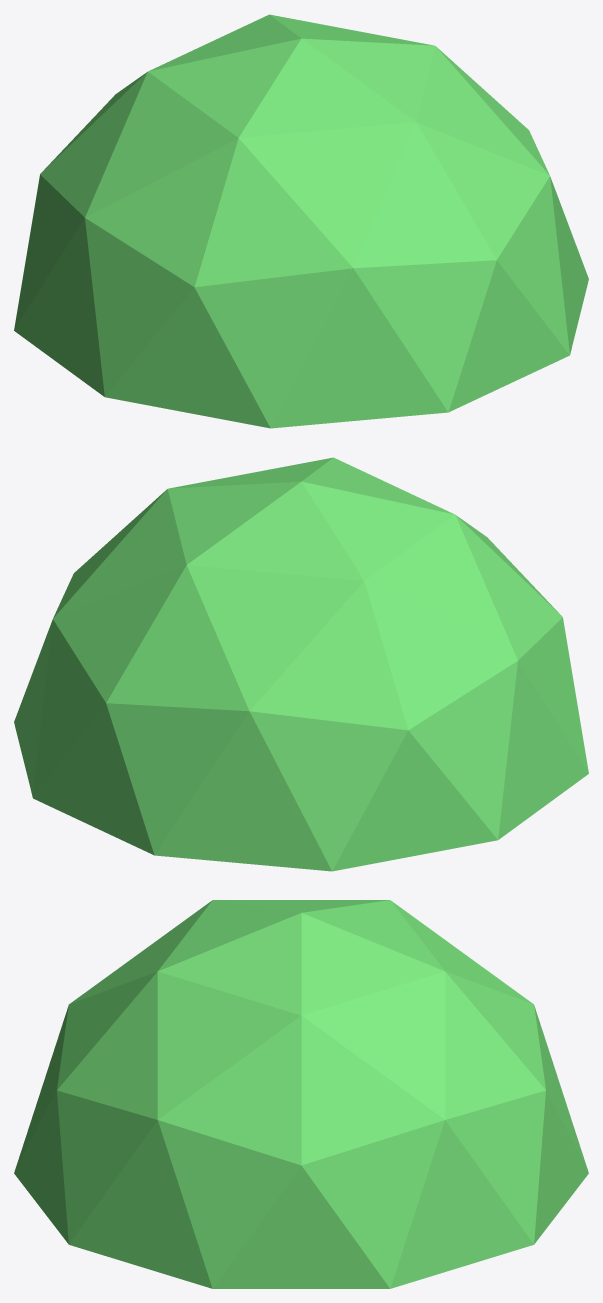
File: buisson.fbx
The picture shows the model from 3 angles, top to bottom: view 1: azimuth 30°, elevation 25°; view 2: azimuth 150°, elevation 25°; view 3: azimuth 270°, elevation 25°; orthographic projection. The views are drawn at different scales.
Parts seen in each view (by area): view 1: Icosphere; view 2: Icosphere; view 3: Icosphere.
Part boxes in pixels (x1,y1,x2,y2): Icosphere: [14, 14, 588, 428]; Icosphere: [14, 457, 588, 871]; Icosphere: [14, 900, 588, 1288].
Bounding box in the file's own units: 49.69 × 26.12 × 52.25.
